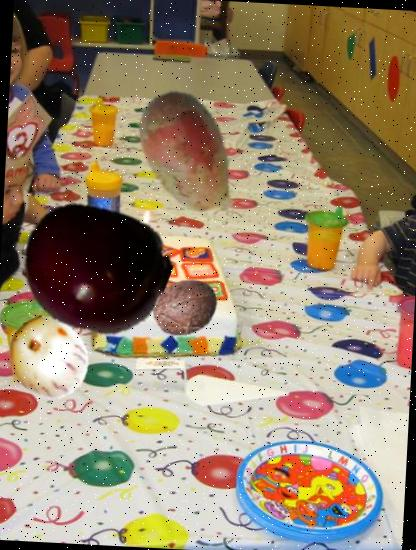Cherry: (17, 192, 172, 346)
Cocos: (150, 272, 221, 343)
Pepino: (5, 314, 92, 402)
Potato: (115, 83, 258, 226)
